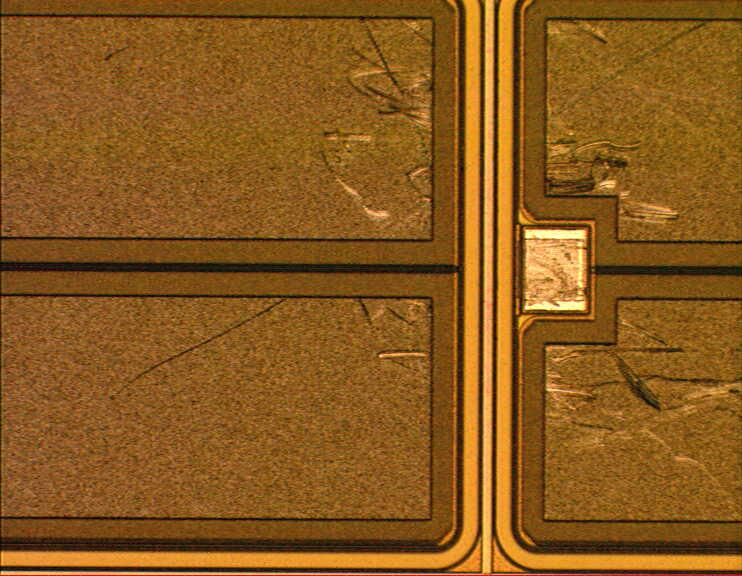SCRATCH: (98, 1, 742, 523)
